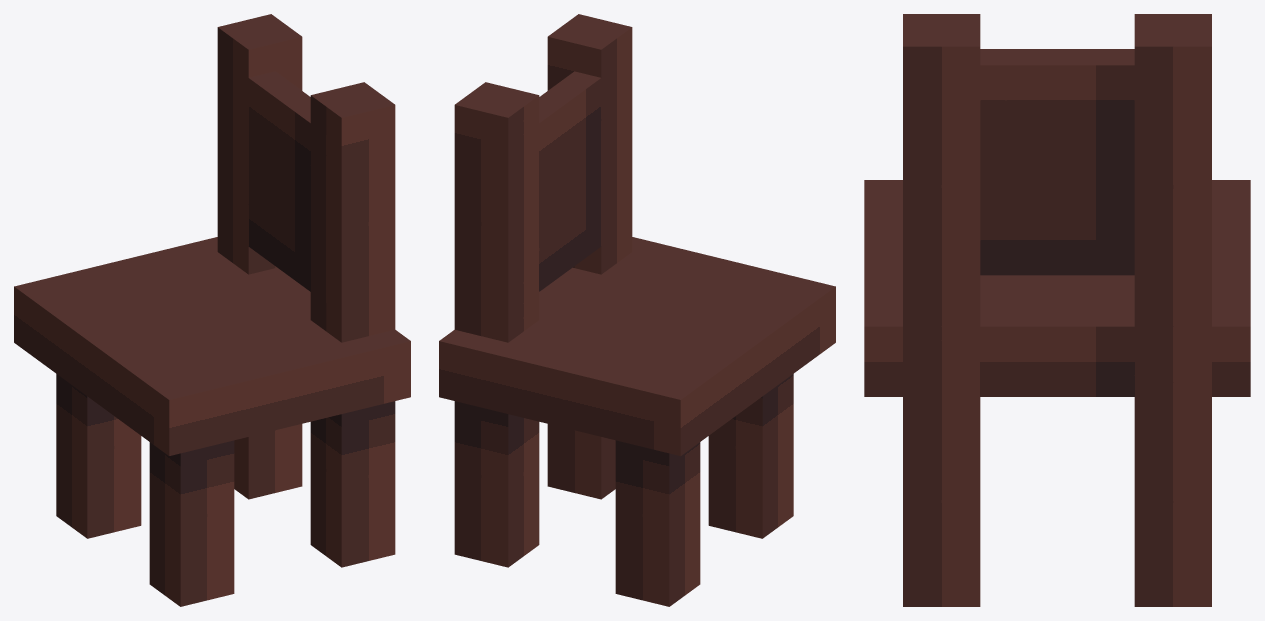
File: int_chairao.fezao.glb
3 views of the same model, side by side, from view 1: azimuth 30°, elevation 25°; view 2: azimuth 150°, elevation 25°; view 3: azimuth 270°, elevation 25° (orthographic). The views are drawn at different scales.
Visible parts, largest first — view 1: INT_CHAIRAO; view 2: INT_CHAIRAO; view 3: INT_CHAIRAO.
Boxes of the visible parts, <box> form: INT_CHAIRAO: <box>14,14,410,606</box>; INT_CHAIRAO: <box>439,14,835,606</box>; INT_CHAIRAO: <box>864,14,1250,606</box>.
Size of the model in its own units: 0.5625 by 1 by 0.625.
Materials: 1 (1 with a texture image).
